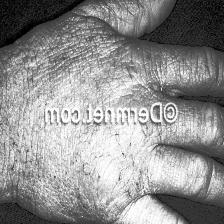Non-Cancerous Skin Condition: (46, 133, 158, 207), (50, 46, 164, 100), (0, 64, 39, 170)
